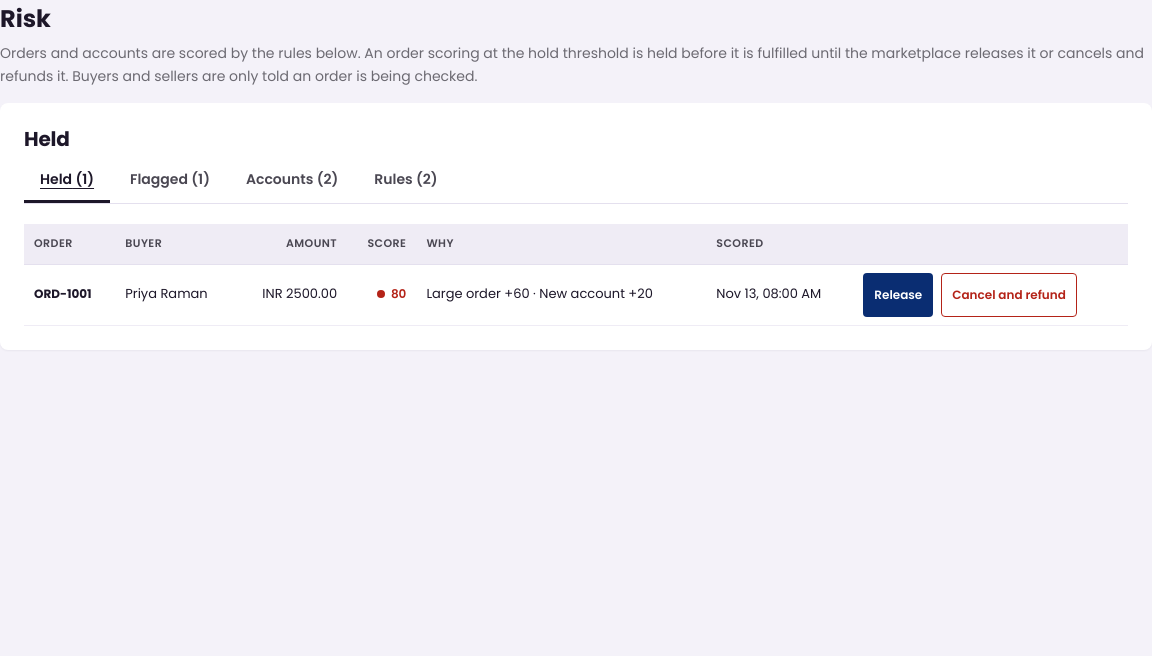
Scenario: OperatorRisk › saves a valid rule edit and a bad bands pair is refused
Click the tab "Rules (2)". click: [406, 181]
box: [358, 159, 454, 203]
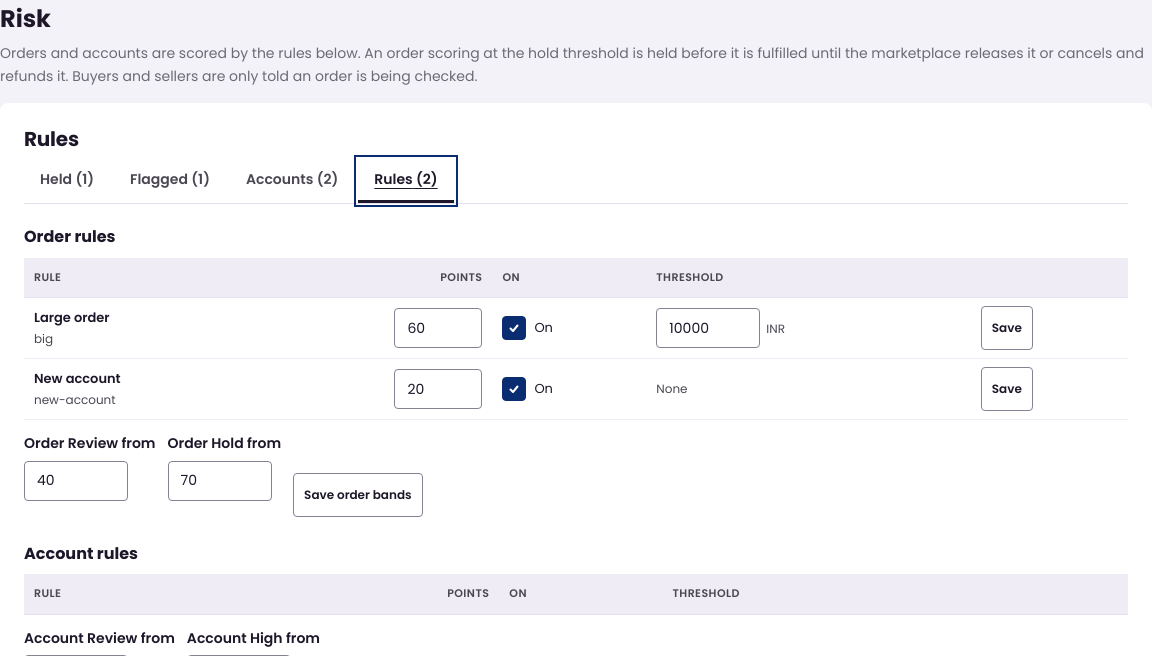
Replace the text in the number field named "Points for New account" with "25". click: [438, 389]
box: [394, 369, 482, 409]
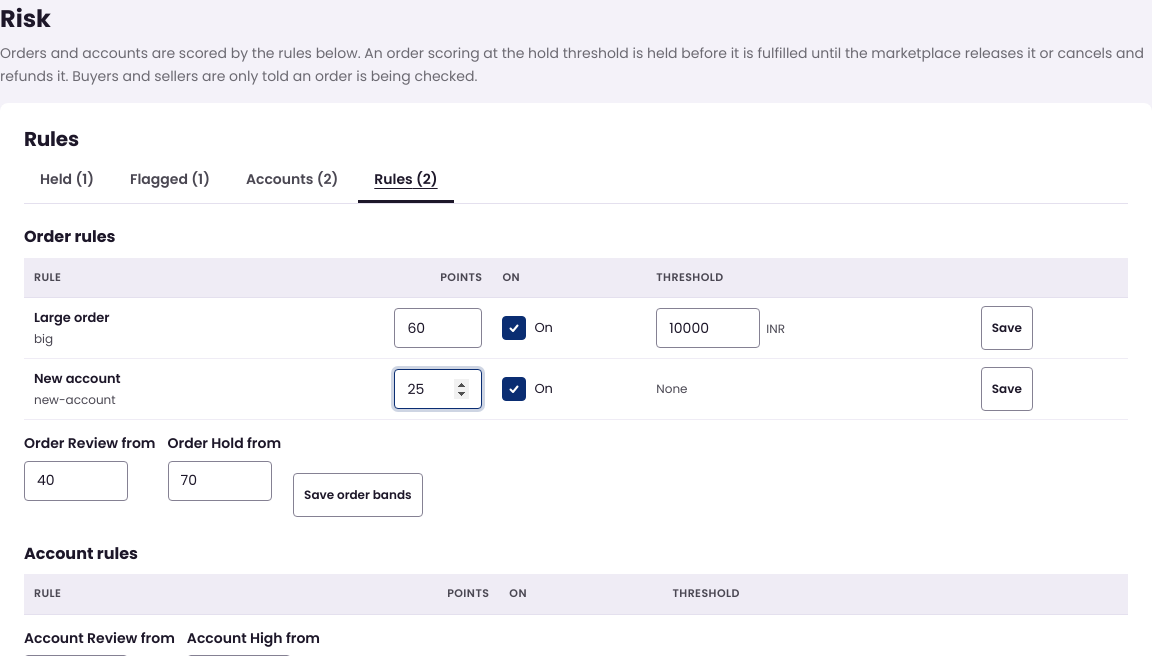
Click the button named "Save New account". click: [1007, 389]
box: [981, 367, 1033, 411]
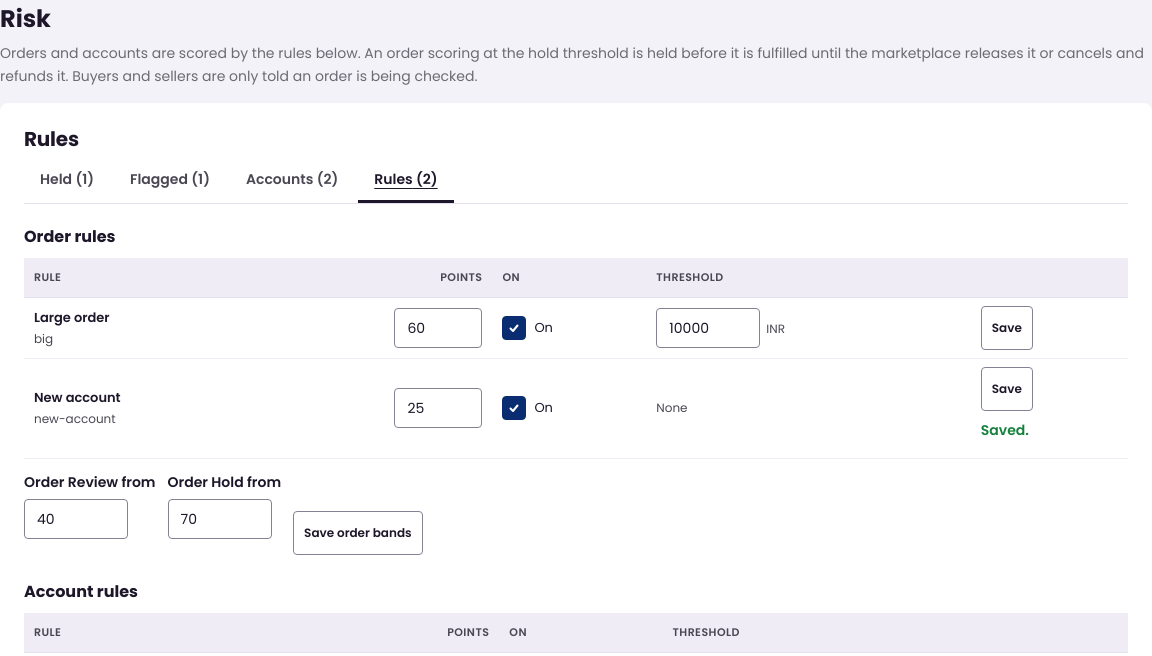
Replace the text in the number field labelled "Order Hold from" with "30". click: [220, 519]
box: [168, 499, 272, 539]
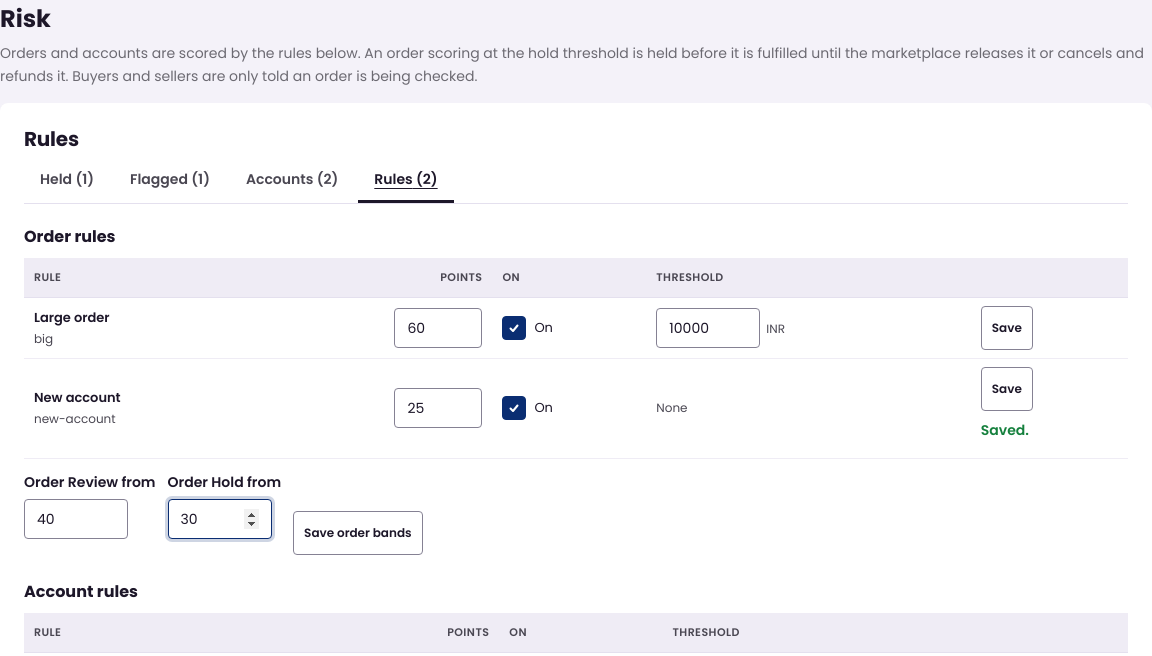
Click the button "Save order bands". click: [358, 533]
box: [293, 511, 423, 555]
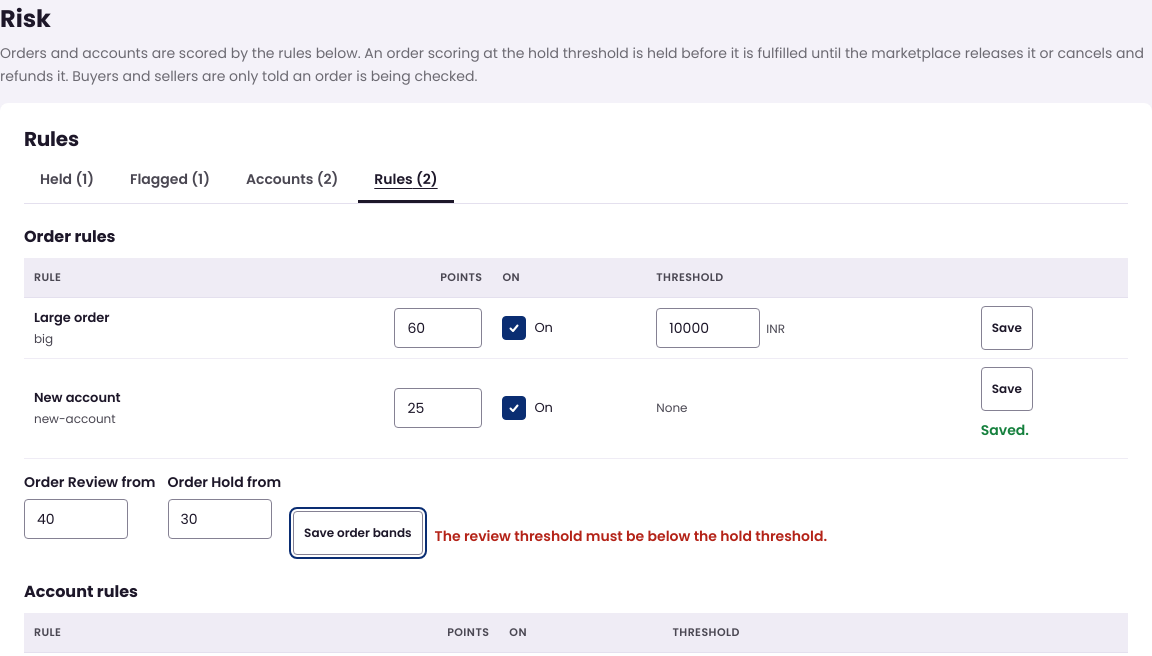
Expected: the message "The review threshold must be below the hold threshold." is shown, [435, 525, 827, 547]
